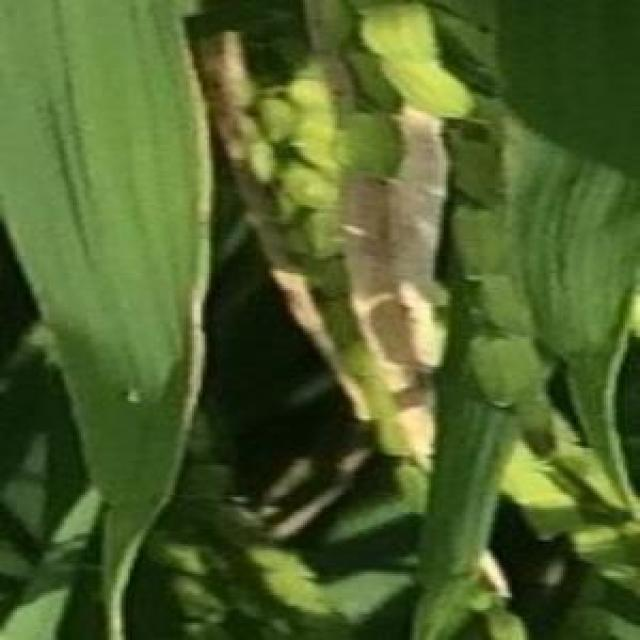Bacterial_Blight: (193, 30, 509, 600), (301, 0, 510, 597)
